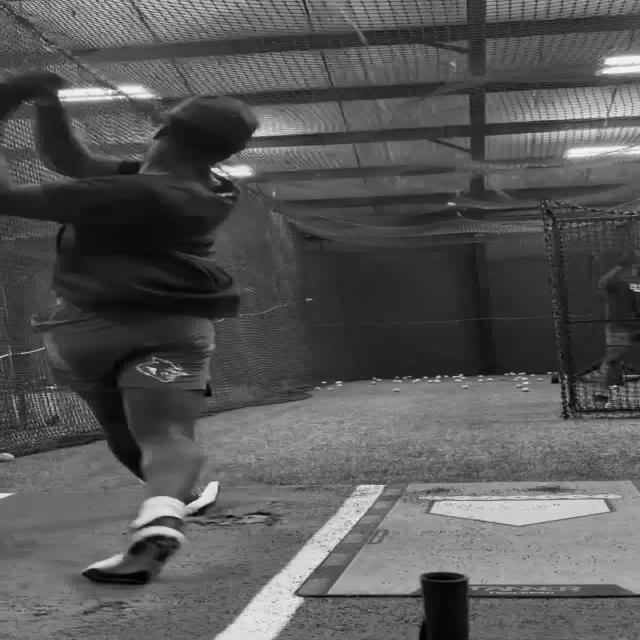base: (428, 496, 616, 526)
baseball: (0, 452, 15, 462), (450, 203, 457, 207)
shoe: (81, 480, 219, 584), (81, 516, 185, 584), (182, 481, 220, 516)
